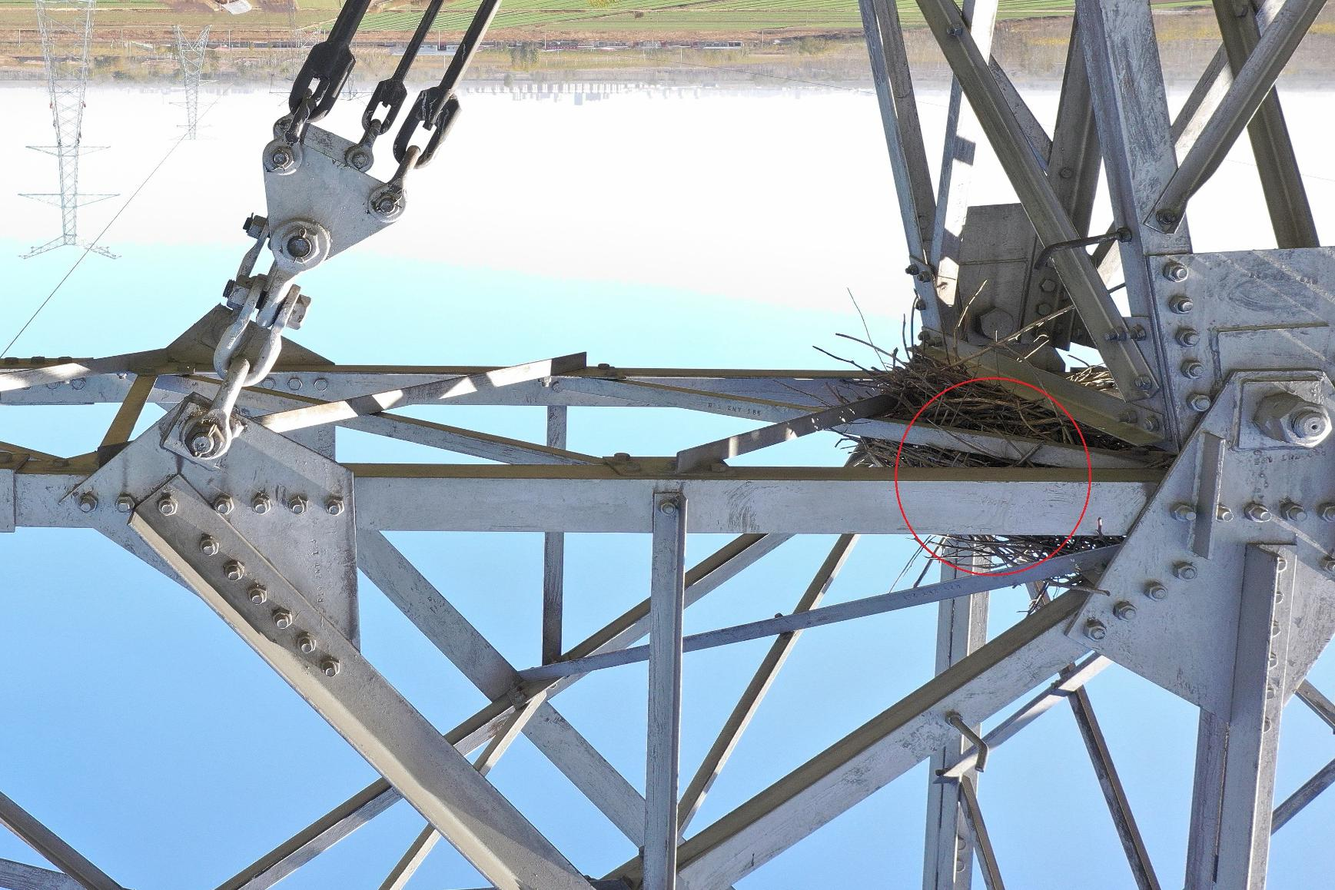nest: (822, 281, 1108, 570)
